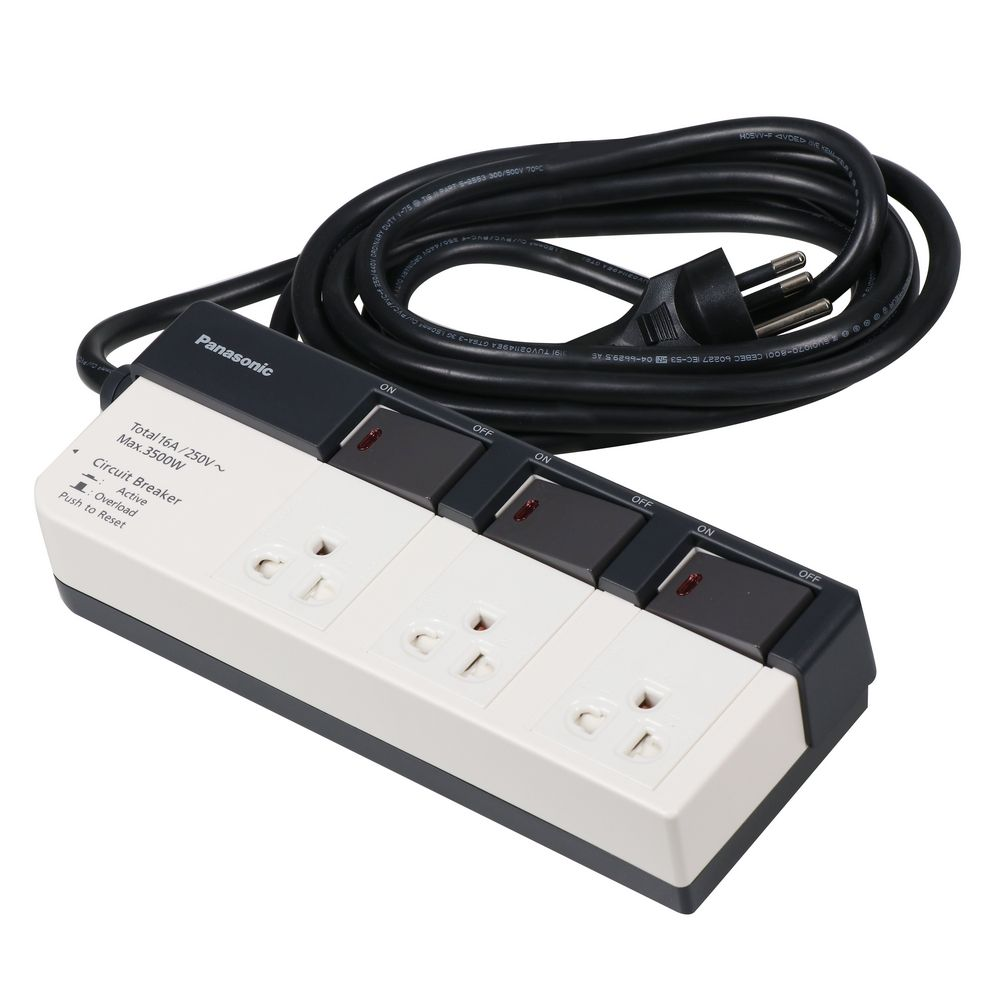Three_eye_plug: (28, 290, 888, 930)
